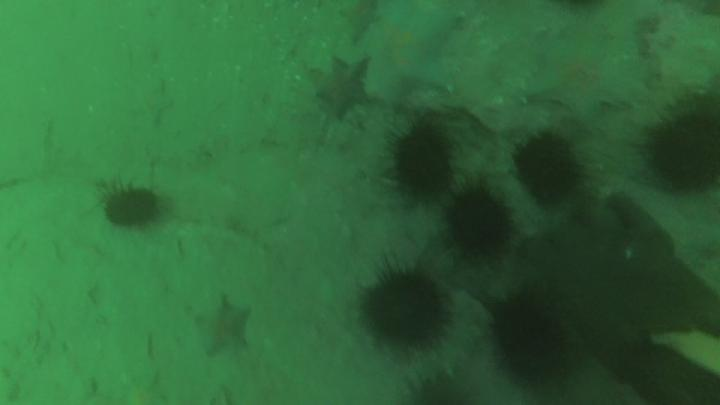echinus: (347, 250, 462, 364), (483, 277, 582, 393), (639, 77, 720, 190), (380, 113, 465, 210), (508, 125, 598, 216), (436, 172, 523, 264), (94, 175, 166, 232), (395, 367, 484, 405)
starfish: (525, 23, 644, 132), (385, 5, 464, 103), (194, 295, 257, 361), (315, 56, 374, 123), (338, 2, 381, 44)
